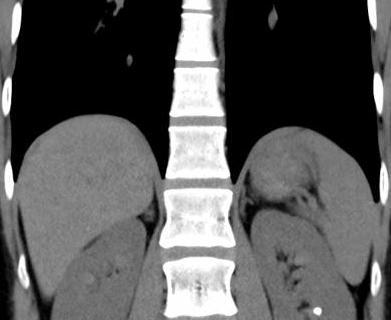Tas_Var: (312, 302, 324, 318)
